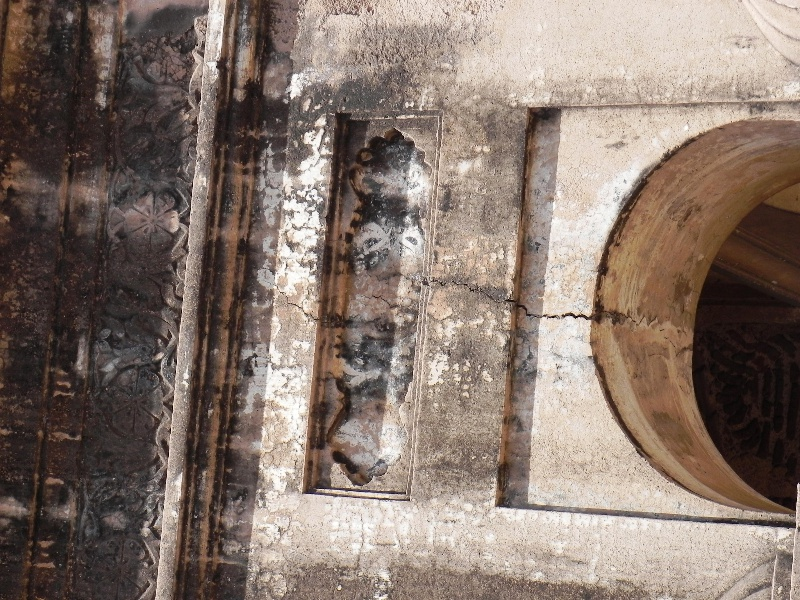Crack: (503, 292, 603, 328)
